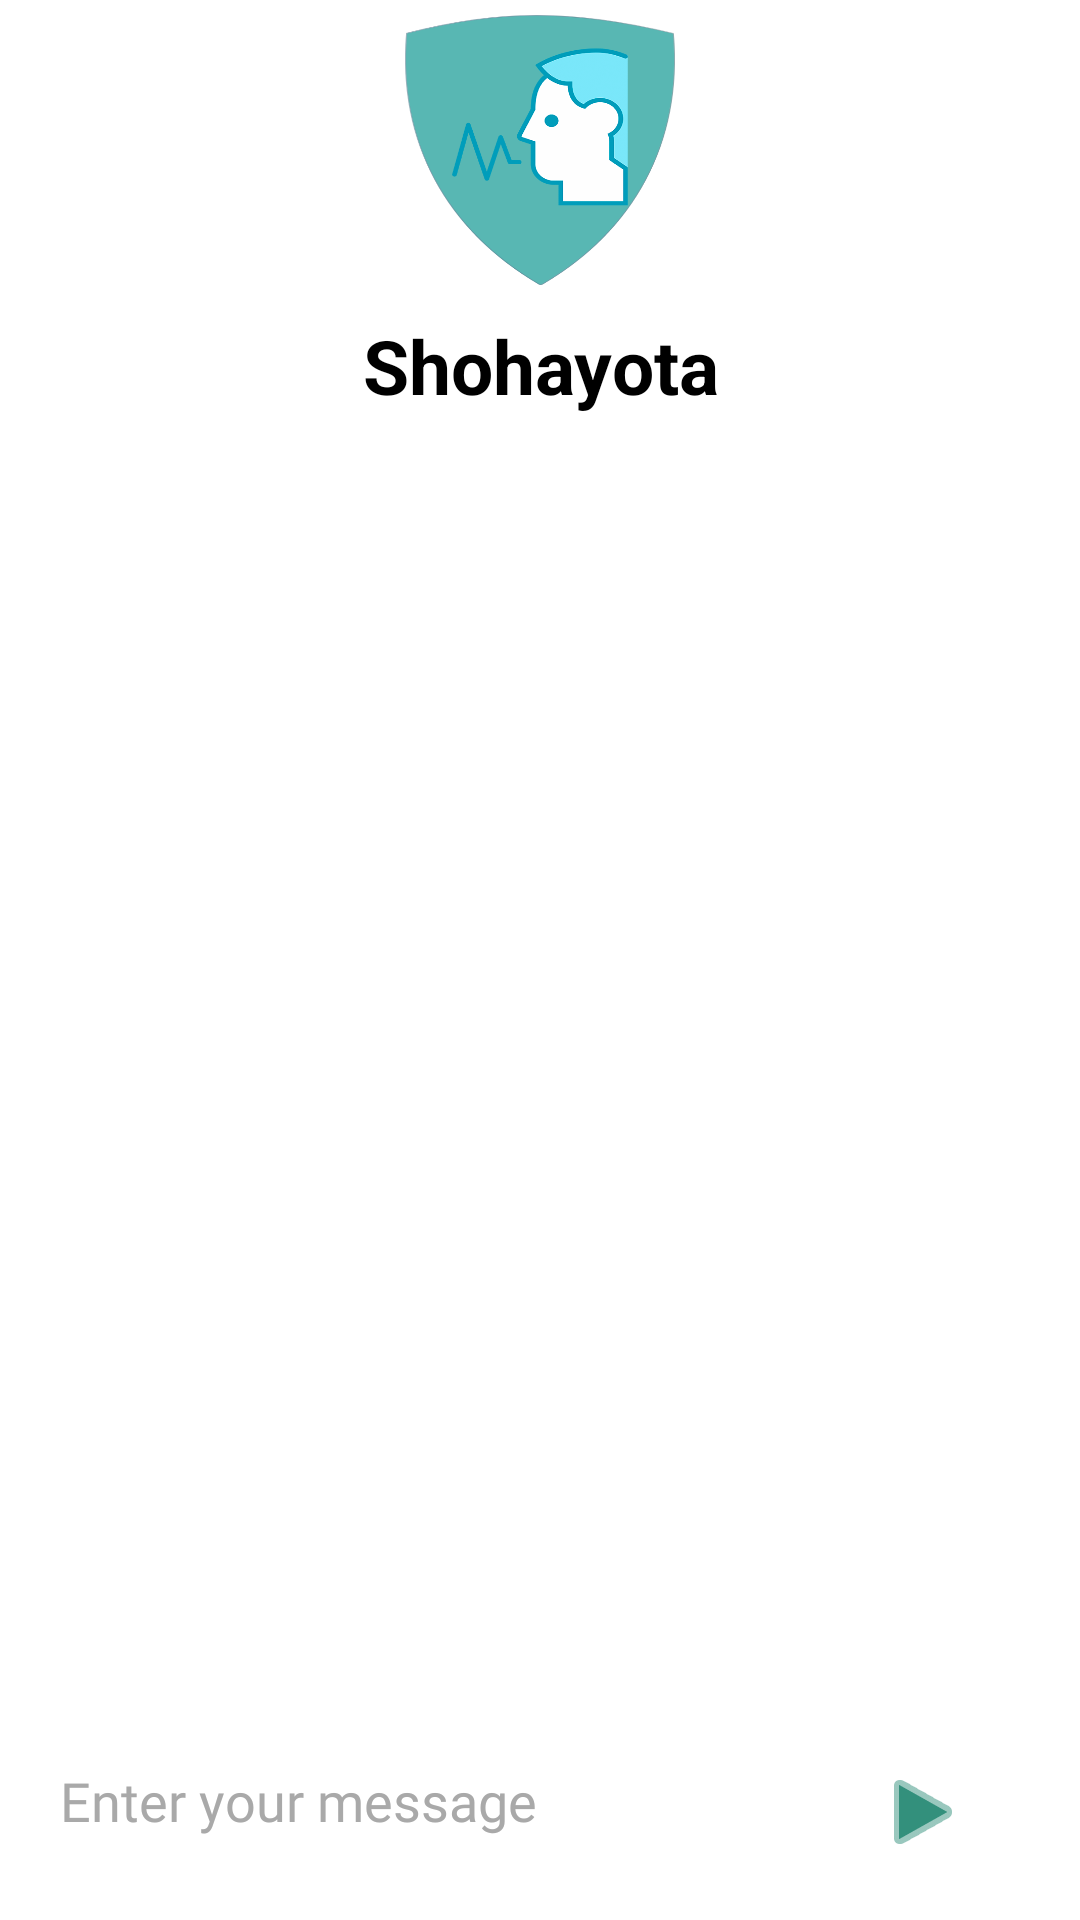

Named icons in this screenshot (1080x1920) and their bounding boxes, (x1, y1, x2, y2):
play: (894, 1780, 952, 1844)
